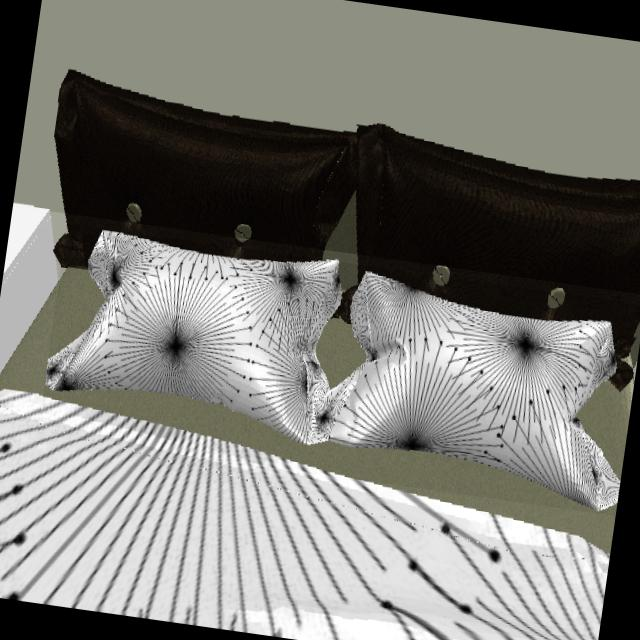bed: (0, 210, 616, 640)
pillow: (45, 233, 629, 513)
